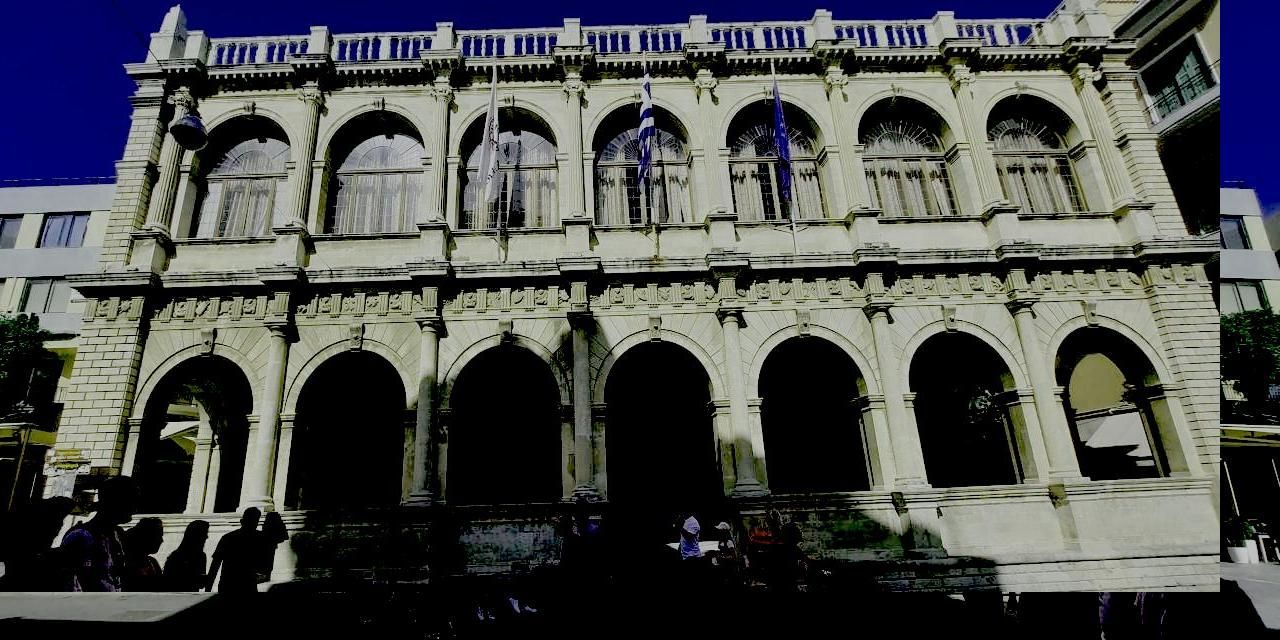Loggia: (1, 1, 1221, 593)
